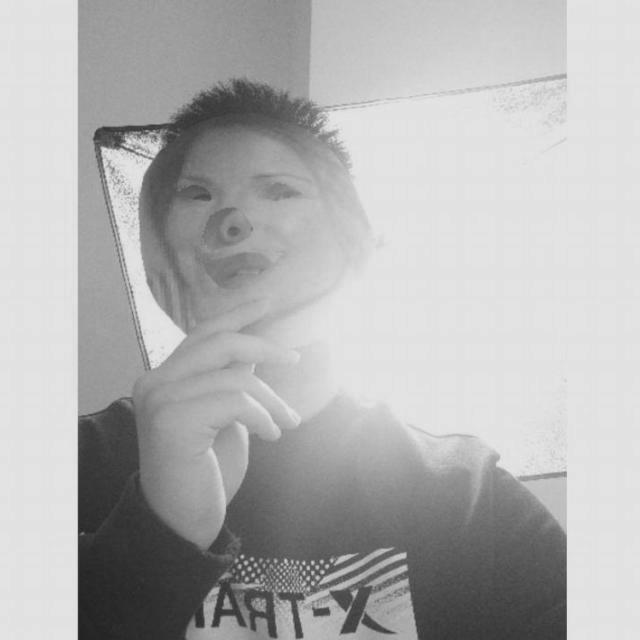fake: (136, 113, 376, 343)
